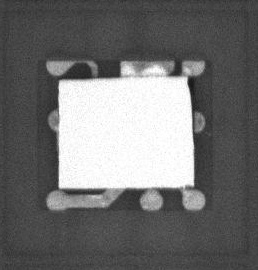DIE_BROKEN: (185, 76, 194, 106)
